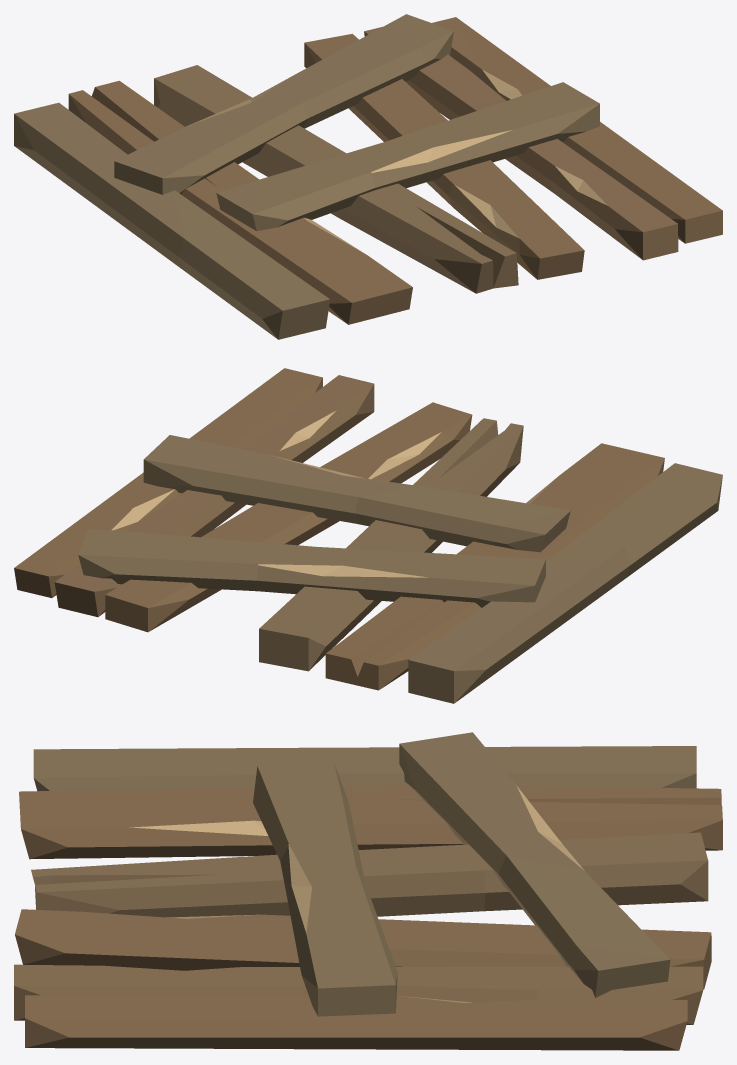
Rendered from rpgpp_ag_wall_platform_03b.fbx.
3 renders of one model, top to bottom at view 1: azimuth 30°, elevation 25°; view 2: azimuth 150°, elevation 25°; view 3: azimuth 270°, elevation 25°, orthographic. The views are drawn at different scales.
Visible parts, largest first — view 1: rpgpp_ag_wall_platform_03b; view 2: rpgpp_ag_wall_platform_03b; view 3: rpgpp_ag_wall_platform_03b.
Boxes of the visible parts, <box> form: rpgpp_ag_wall_platform_03b: <box>14,14,722,339</box>; rpgpp_ag_wall_platform_03b: <box>14,368,722,703</box>; rpgpp_ag_wall_platform_03b: <box>14,732,722,1050</box>.
Bounding box in the file's own units: 2.51 × 0.2732 × 2.75.
